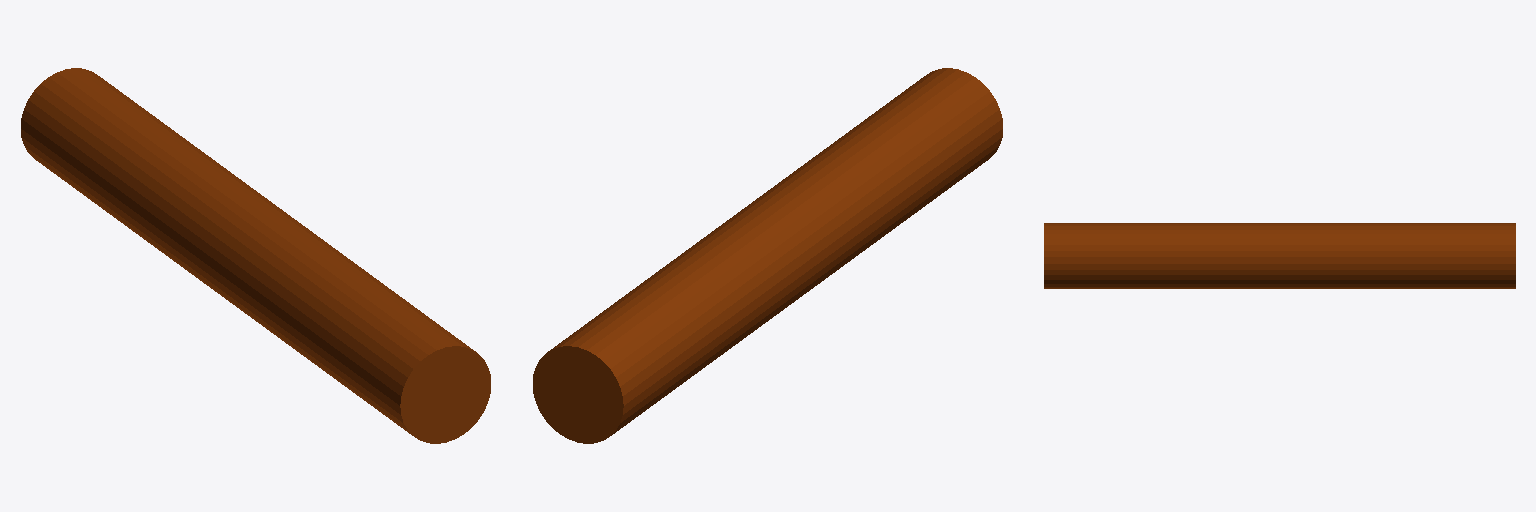
The robot description file, URDF, robot "cylinder":
<?xml version="1.0" ?>
<!-- =================================================================================== -->
<!-- |    This document was autogenerated by xacro from cylinder.xacro                 | -->
<!-- |    EDITING THIS FILE BY HAND IS NOT RECOMMENDED                                 | -->
<!-- =================================================================================== -->
<robot name="cylinder">
  <link name="world"/>
  <link name="base">
    <visual>
      <origin rpy="1.57079633 0 0" xyz="0 0 0"/>
      <geometry>
        <cylinder length="7.07106781185" radius="0.49"/>
      </geometry>
      <material name="cylinder_material">
        <color rgba="0.545 0.271 0.075 1.0"/>
        <texture filename="../textures/tree_bark.jpg"/>
      </material>
    </visual>
    <collision>
      <origin rpy="1.57079633 0 0" xyz="0 0 0"/>
      <geometry>
        <cylinder length="7.07106781185" radius="0.49"/>
      </geometry>
    </collision>
    <inertial>
      <origin rpy="0 0 0" xyz="0 0 0"/>
      <mass value="1"/>
      <inertia ixx="4.226691666648429" ixy="0.0" ixz="0.0" iyy="4.226691666648429" iyz="0.0" izz="24.999999999890573"/>
    </inertial>
  </link>
  <joint name="base_joint" type="fixed">
    <parent link="world"/>
    <child link="base"/>
    <origin rpy="0 0 0" xyz="0.0 0.0 0.0"/>
  </joint>
</robot>

--- Facts derived from the render (not from the file) ---
Views: 3 orthographic renders of the robot side by side, from view 1: azimuth 30°, elevation 25°; view 2: azimuth 150°, elevation 25°; view 3: azimuth 270°, elevation 25°.
Model cylinder with 2 links and 1 joints (1 fixed), rooted at world, posed every joint at zero.
Links seen in each view (by area): view 1: base; view 2: base; view 3: base.
Link boxes in pixels (x1,y1,x2,y2): base: (21, 68, 490, 443); base: (533, 68, 1002, 443); base: (1044, 223, 1515, 288).
Size in the robot's own frame: 0.98 by 7.07 by 0.98 metres.
Geometry: primitives only (box / cylinder / sphere), no mesh files.
